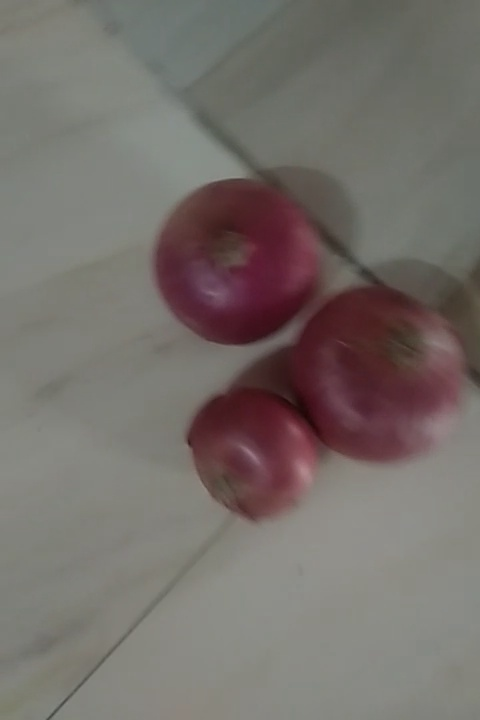onion: (292, 287, 470, 476), (163, 183, 306, 342), (189, 385, 334, 520)
